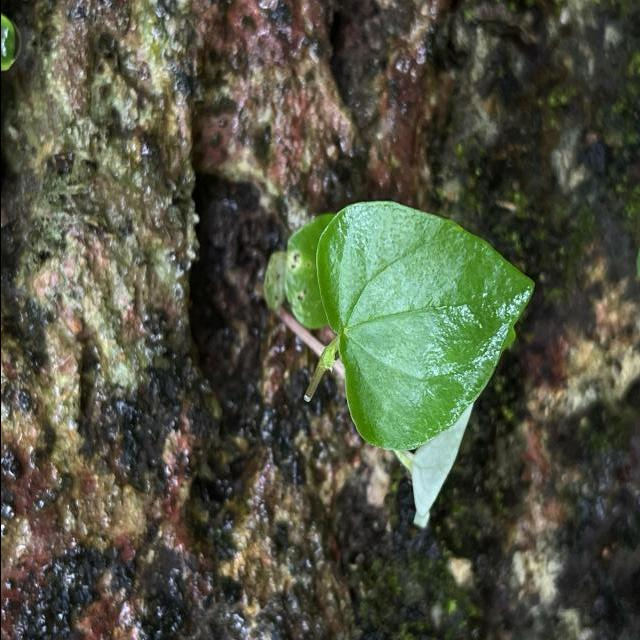Peperomia pellucida: (313, 198, 536, 456)
